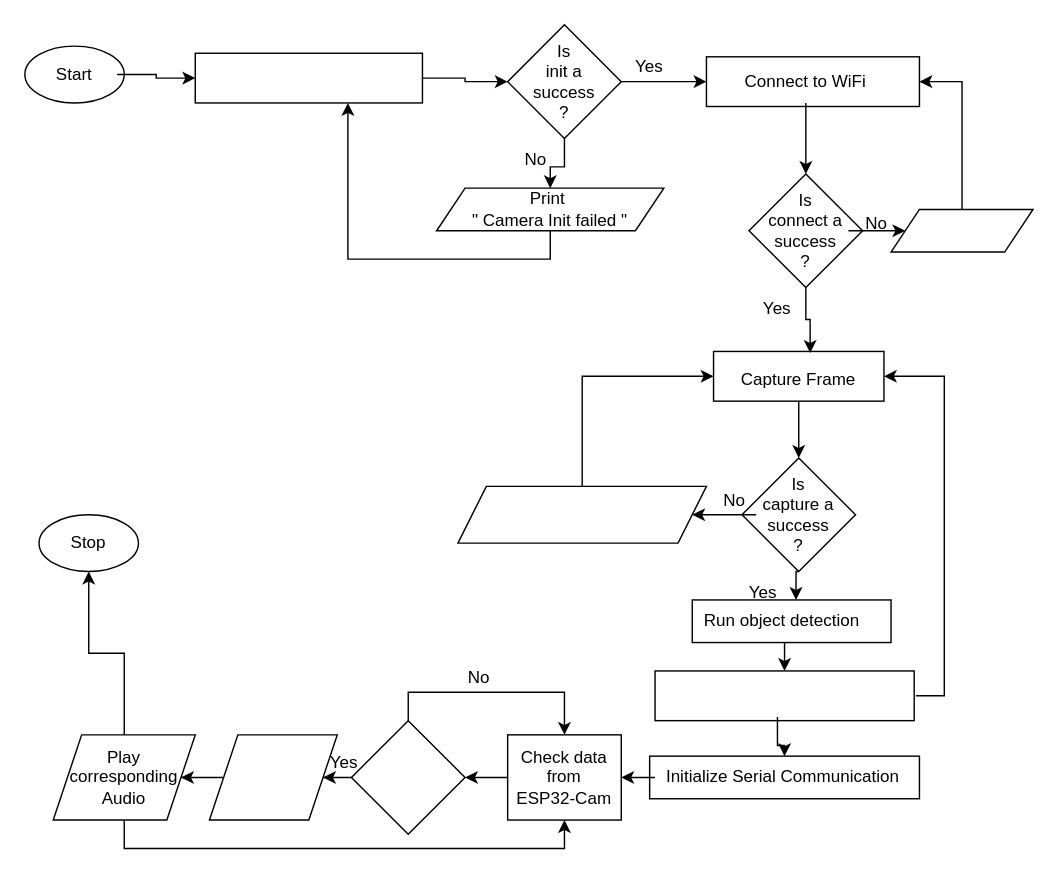
Image size: 1058x885. Some labels were removed from this diagram. The shapes that lost their labels are listed below. From the top down, each one's centre as x and y in pixels, then its label:
pixel 308 77: Initialize the camera
pixel 961 230: Print "..."
pixel 581 514: Print " Camera capture failed "
pixel 784 695: Send detected object to Arduino
pixel 272 776: Read Detected object
pixel 407 776: Is Data available ?
